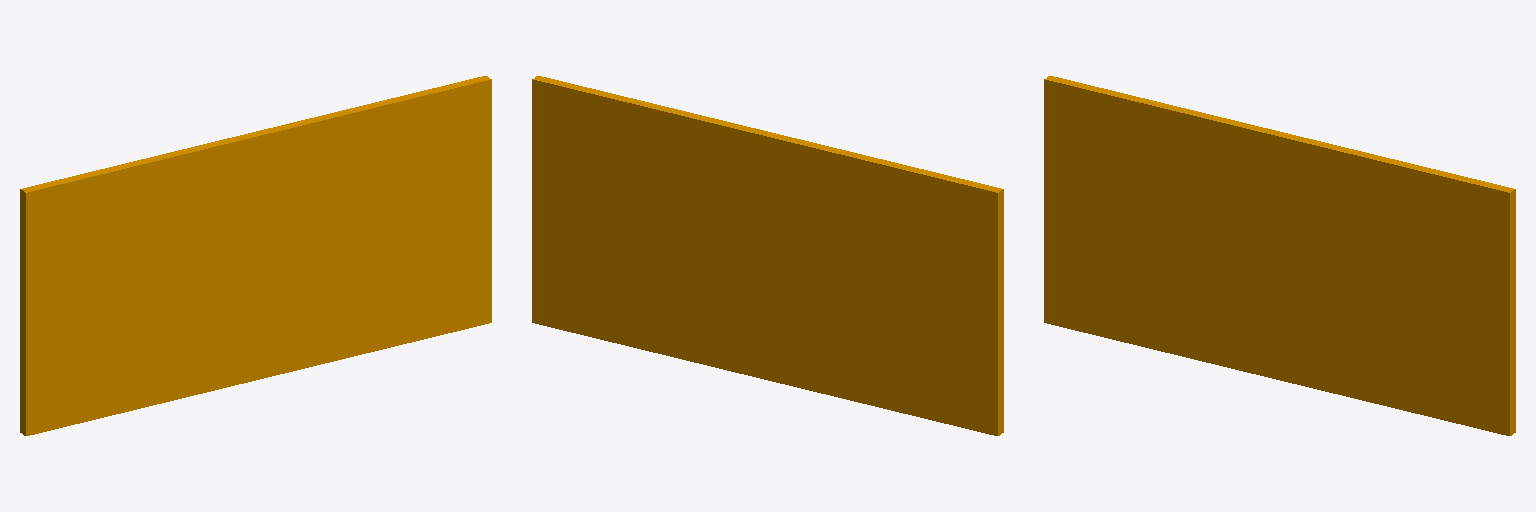
robot.urdf — left_wall:
<?xml version='1.0' encoding='UTF-8'?>
<robot name="left_wall">
  <link name="base_link">
    <inertial>
      <origin xyz="0.0 0.0 0.0" rpy="0.0 -0.0 0.0"/>
      <mass value="1.0"/>
      <inertia ixx="1.0" ixy="0.0" ixz="0.0" iyy="1.0" iyz="0.0" izz="1.0"/>
    </inertial>
    <visual name="base_link_visual">
      <geometry>
        <box size="10 0.2 5"/> <!-- Change the size of the box from 10-->
      </geometry>
      <origin xyz="0 0 0" rpy="0 0 0"/>
    </visual>
    <collision name="base_link_collision">
      <geometry>
        <box size="10 0.2 5"/>
      </geometry>
      <origin xyz="0 0 0" rpy="0 0 0"/>
    </collision>
  </link>
</robot>

--- What the picture shows (computed from the rendered views, not written in the file) ---
3 views of the same robot in one strip: view 1: azimuth 30°, elevation 25°; view 2: azimuth 150°, elevation 25°; view 3: azimuth 330°, elevation 25° (orthographic).
Robot: left_wall — 1 links, 0 joints (none); root link base_link; default pose: all joints at 0.
Visible links, largest first — view 1: base_link; view 2: base_link; view 3: base_link.
Boxes of the visible links, left/top/right/bottom form: base_link: left=20, top=76, right=491, bottom=435; base_link: left=532, top=76, right=1003, bottom=435; base_link: left=1044, top=76, right=1515, bottom=435.
Bounding box of the posed robot: 10 × 0.2 × 5 m (x, y, z).
Geometry: primitives only (box / cylinder / sphere), no mesh files.